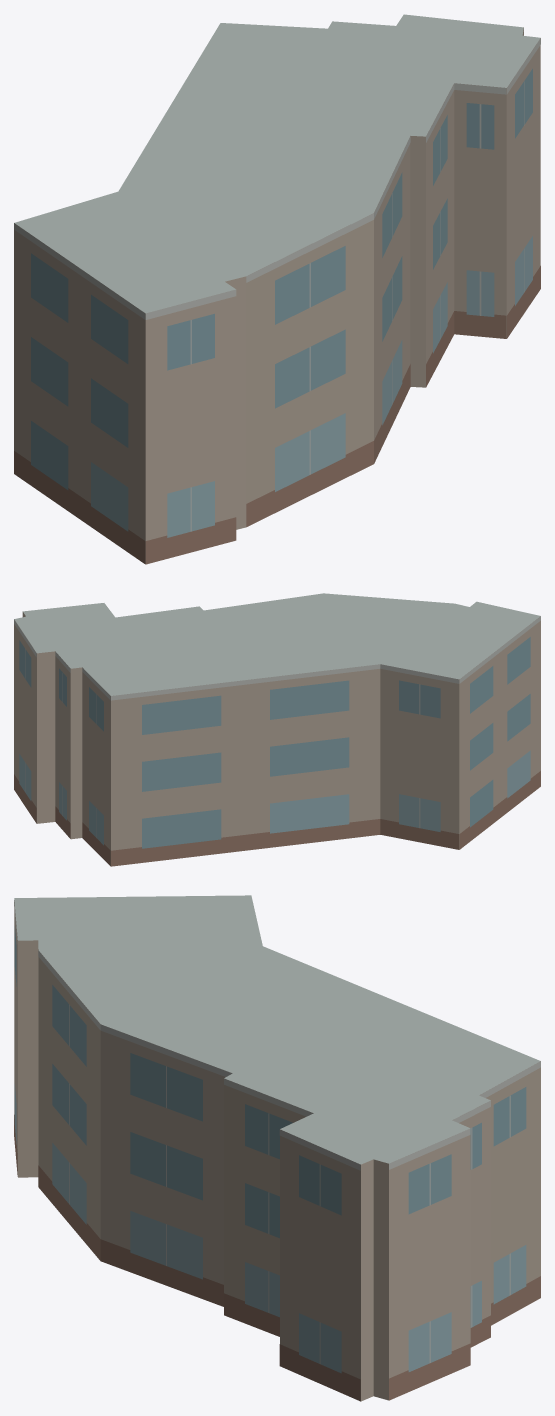
Rendered from survey-upis-32495312.glb.
The picture shows the model from 3 angles, top to bottom: view 1: azimuth 30°, elevation 25°; view 2: azimuth 150°, elevation 25°; view 3: azimuth 270°, elevation 25°; orthographic projection. The views are drawn at different scales.
Visible parts, largest first — view 1: survey-upis-32495312.tmp; view 2: survey-upis-32495312.tmp; view 3: survey-upis-32495312.tmp.
Boxes of the visible parts, x1,y1,x2,y2 form: survey-upis-32495312.tmp: (14,14,540,564); survey-upis-32495312.tmp: (14,593,540,866); survey-upis-32495312.tmp: (14,895,540,1401).
Bounding box in the file's own units: 22.31 × 9.15 × 18.45.
